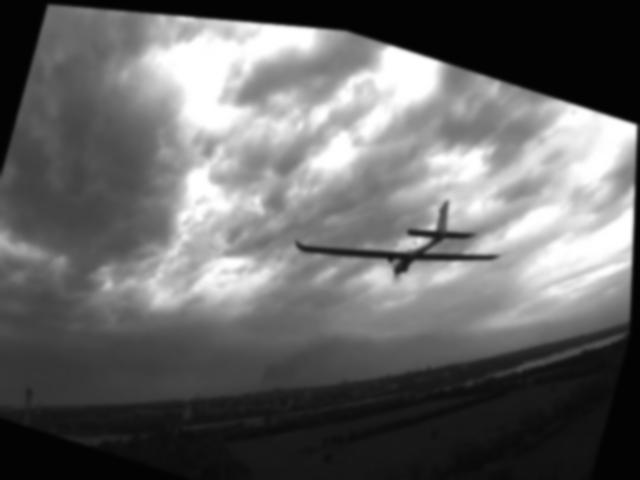hedef: (285, 142, 539, 336)
